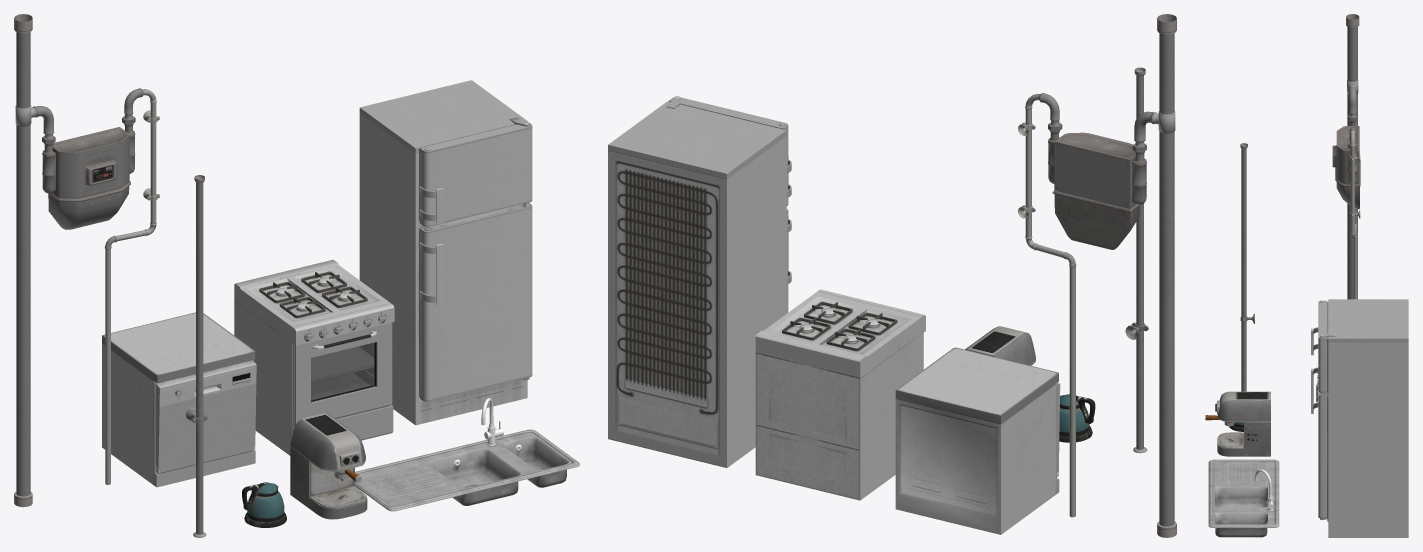
Rendered from kitchen_appliances.glb.
3 renders of one model, left to right at view 1: azimuth 30°, elevation 25°; view 2: azimuth 150°, elevation 25°; view 3: azimuth 270°, elevation 25°, orthographic. The views are drawn at different scales.
Parts seen in each view (by area): view 1: Refridgerator_A_2, Oven_A_3, Washing_Machine_A_1, Pipes_Kitchen_A_6, Sink_Kitchen_A_4, Coffeemachine_A_0, Pipes_Kitchen_A.001_7, Boiler_A_5; view 2: Refridgerator_A_2, Oven_A_3, Washing_Machine_A_1, Pipes_Kitchen_A_6, Pipes_Kitchen_A.001_7, Coffeemachine_A_0, Boiler_A_5; view 3: Refridgerator_A_2, Sink_Kitchen_A_4, Pipes_Kitchen_A_6, Coffeemachine_A_0, Pipes_Kitchen_A.001_7.
Part boxes in pixels (x1,y1,x2,y2): Refridgerator_A_2: (359, 80, 532, 425); Oven_A_3: (234, 259, 394, 455); Washing_Machine_A_1: (102, 312, 256, 487); Pipes_Kitchen_A_6: (14, 14, 159, 507); Sink_Kitchen_A_4: (355, 398, 579, 511); Coffeemachine_A_0: (290, 413, 367, 519); Pipes_Kitchen_A.001_7: (186, 175, 207, 537); Boiler_A_5: (242, 482, 286, 527); Refridgerator_A_2: (608, 96, 791, 467); Oven_A_3: (755, 289, 925, 500); Washing_Machine_A_1: (895, 347, 1060, 534); Pipes_Kitchen_A_6: (1018, 14, 1176, 537); Pipes_Kitchen_A.001_7: (1125, 67, 1148, 453); Coffeemachine_A_0: (965, 326, 1035, 365); Boiler_A_5: (1059, 394, 1095, 442); Refridgerator_A_2: (1311, 299, 1408, 537); Sink_Kitchen_A_4: (1208, 459, 1279, 537); Pipes_Kitchen_A_6: (1332, 14, 1360, 299); Coffeemachine_A_0: (1205, 391, 1270, 456); Pipes_Kitchen_A.001_7: (1240, 143, 1254, 391).
Bounding box in the file's own units: 3.75 × 3.67 × 1.85.
5 materials, 4 textured.
